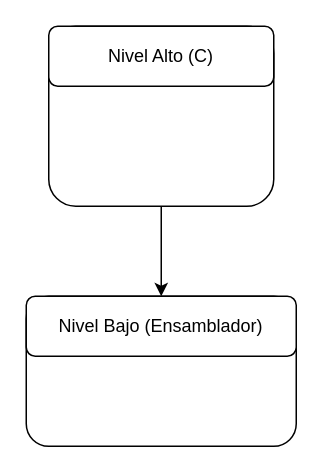
Some shapes in this 323 by 473 pixel diagram are drawn without their labels. Each missing label, with the box of its shape:
- chacha20_blocks (20 rondas) - chacha20_xor: (25, 295, 296, 446)
- Inicialización - Control de bloques - Manejo de buffers - Pruebas: (47, 25, 274, 206)
